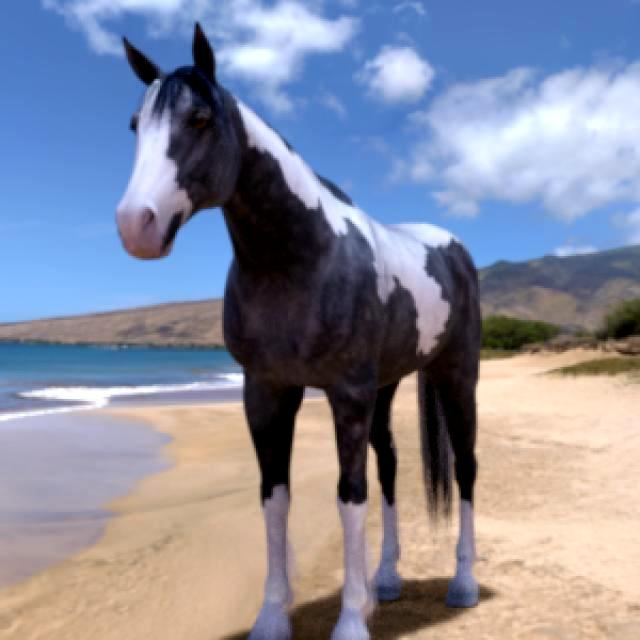horse: (116, 26, 481, 639)
